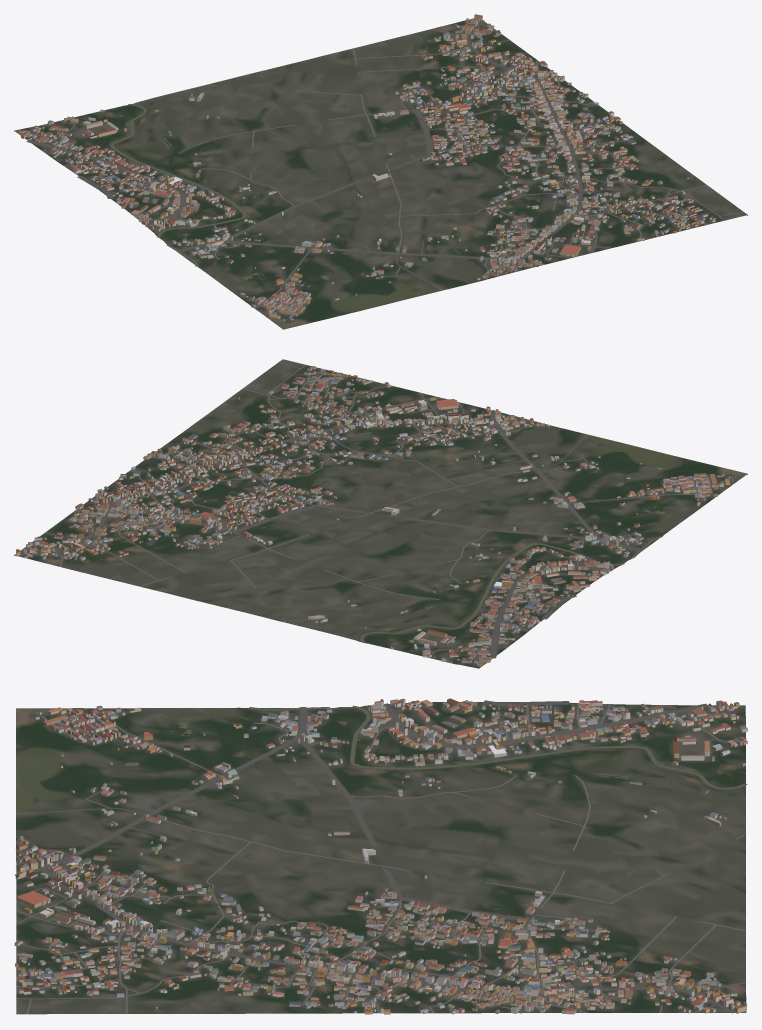
3 renders of one model, top to bottom at view 1: azimuth 30°, elevation 25°; view 2: azimuth 150°, elevation 25°; view 3: azimuth 270°, elevation 25°, orthographic. The views are drawn at different scales.
Parts seen in each view (by area): view 1: ground, buildings, roads, water; view 2: ground, buildings, roads, water; view 3: ground, buildings, roads, water.
Part boxes in pixels (x1,y1,x2,y2): ground: (14, 18, 747, 329); buildings: (16, 14, 715, 320); roads: (26, 20, 743, 322); water: (40, 104, 329, 280); ground: (14, 359, 747, 668); buildings: (16, 366, 730, 666); roads: (14, 361, 734, 659); water: (360, 482, 665, 663); ground: (16, 702, 746, 1014); buildings: (14, 698, 747, 1014); roads: (14, 700, 746, 1014); water: (125, 705, 747, 789).
Bounding box in the file's own units: 1411 × 29.33 × 1410.
